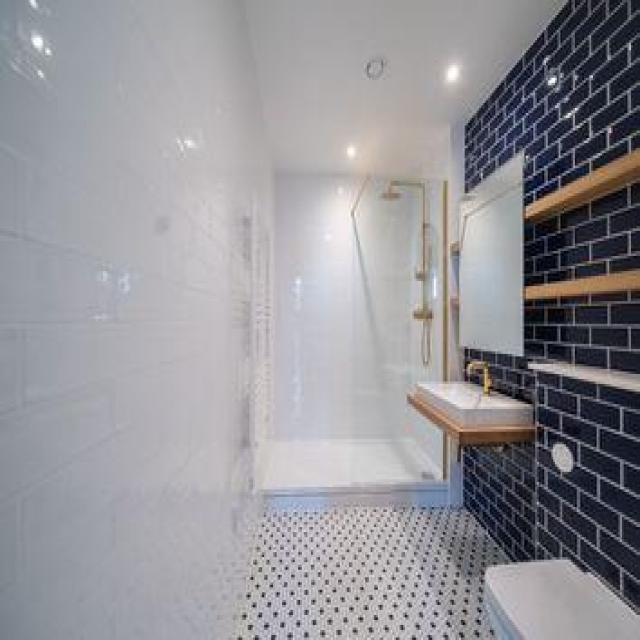Wall: (0, 2, 275, 638), (245, 1, 563, 174), (238, 441, 505, 638), (274, 177, 443, 440), (464, 375, 640, 608), (274, 174, 415, 440), (465, 0, 640, 204), (550, 378, 640, 608), (524, 181, 640, 285), (525, 292, 640, 372), (464, 350, 535, 403), (405, 403, 444, 478), (447, 120, 464, 242)
